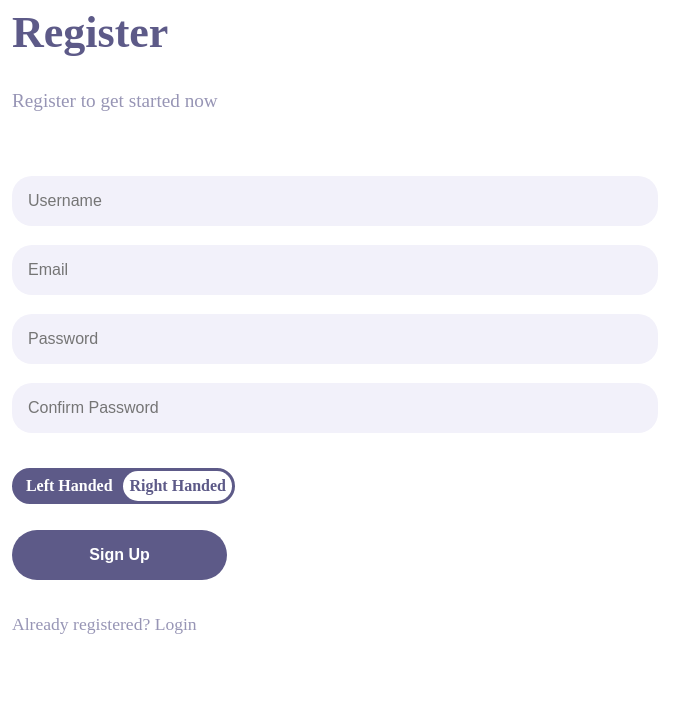
Test: Form Component › displays an error message when the username already exists
This screenshot has width=675, height=711.
Note: Fill out the form with valid, matching passwords
In the field with placeholder "Username": (335, 201) [12,176,658,226], type "existinguser"
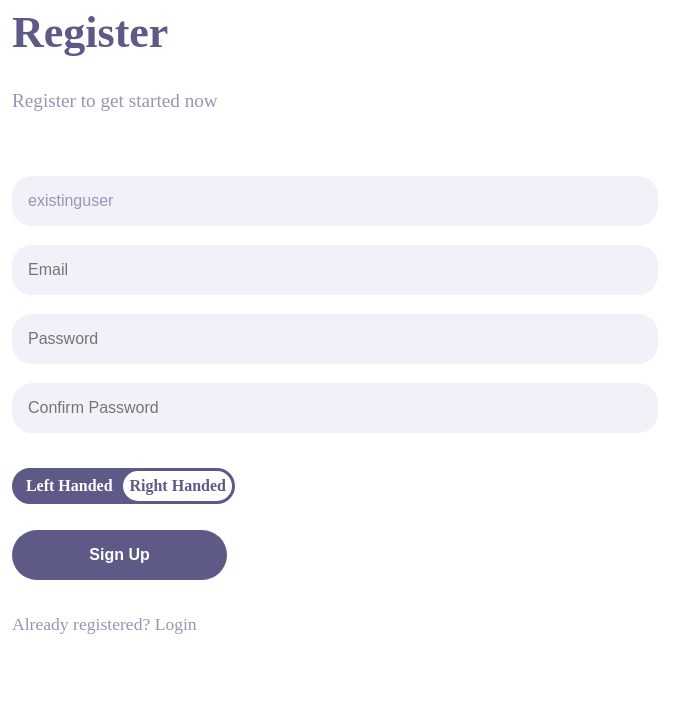
In the field with placeholder "Email": (335, 270) [12,245,658,295], type "test@test.com"
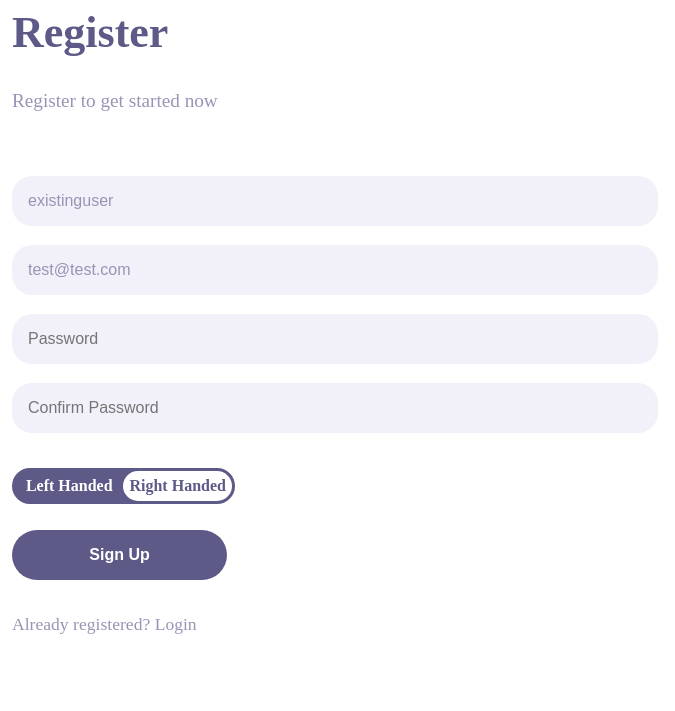
In the password field with placeholder "Password": (335, 339) [12,314,658,364], type "password123"
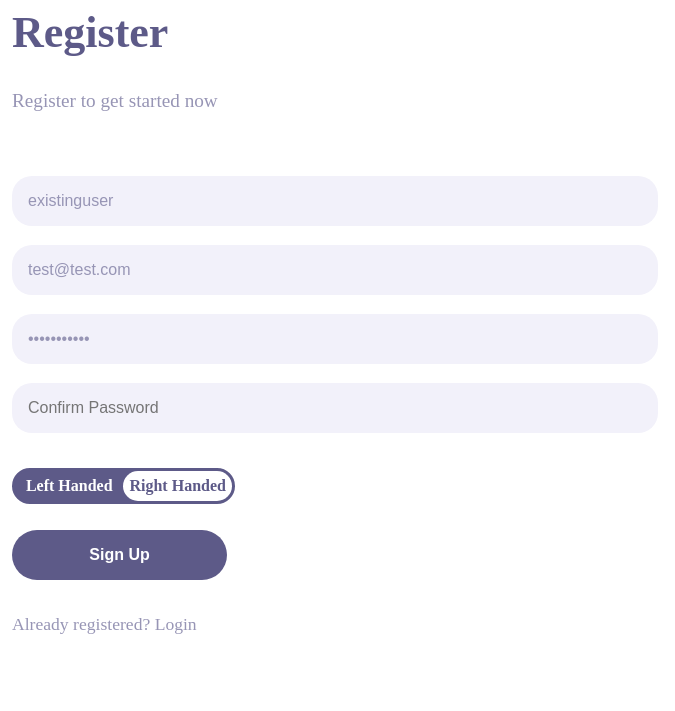
In the password field with placeholder "Confirm Password": (335, 408) [12,383,658,433], type "password123"
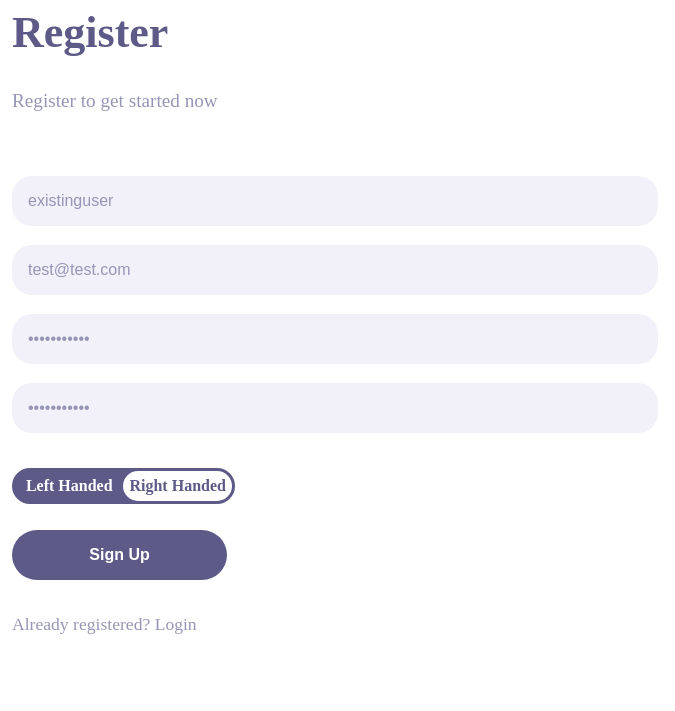
Click the button "Sign Up": (120, 555) [12,530,227,580]
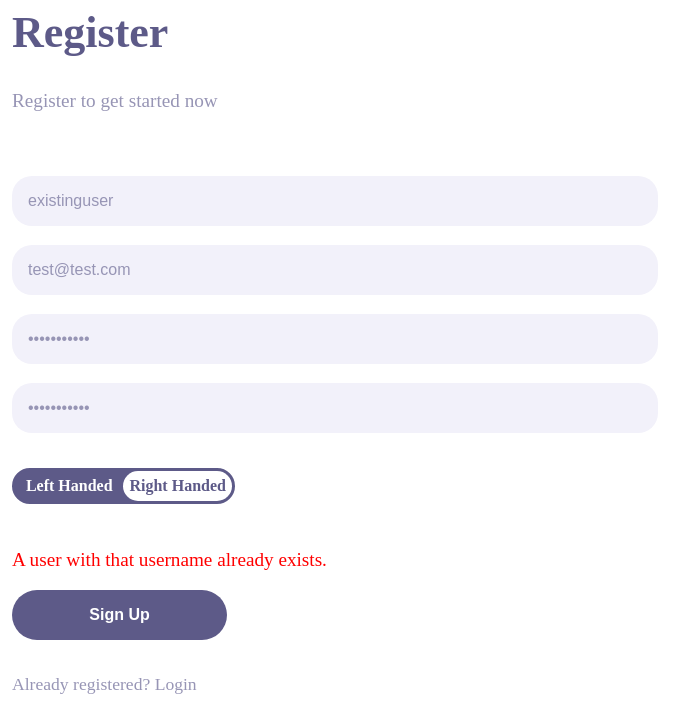
Expected: the text "A user with that username already exists." is shown, [12,549,327,570]
